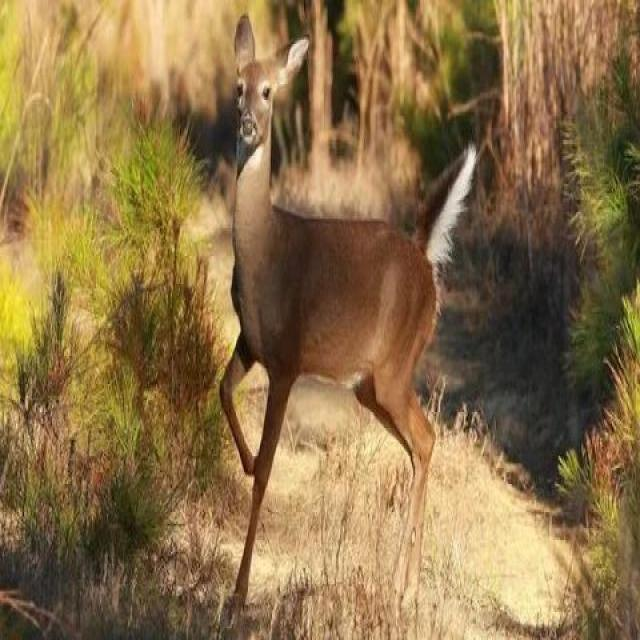deer: (193, 36, 478, 620)
